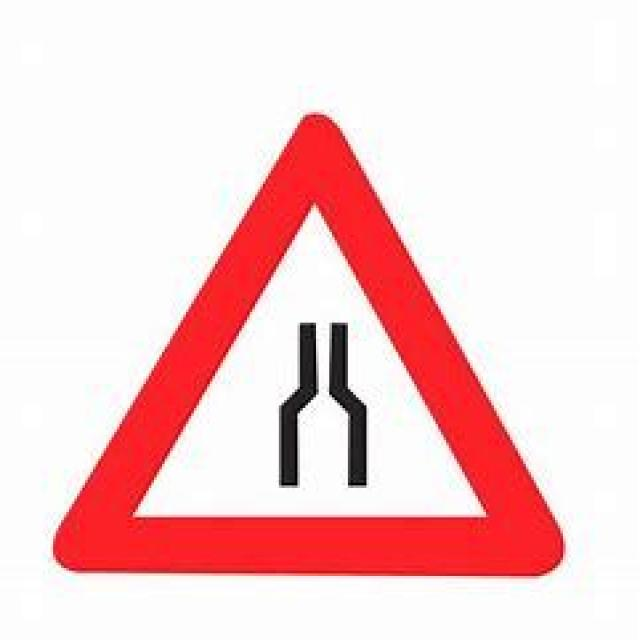NARROW_ROAD_AHEAD: (53, 108, 566, 575)
